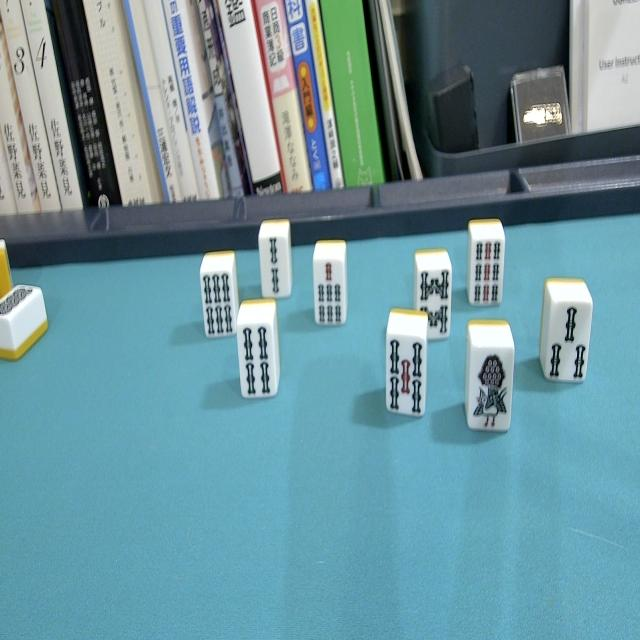1_sou: (465, 324, 515, 442)
2_sou: (257, 218, 293, 300)
3_sou: (538, 279, 593, 389)
4_sou: (234, 299, 282, 406)
5_sou: (384, 308, 428, 422)
6_sou: (199, 249, 238, 345)
7_sou: (312, 237, 350, 331)
8_sou: (412, 249, 455, 343)
9_sou: (467, 218, 507, 311)
